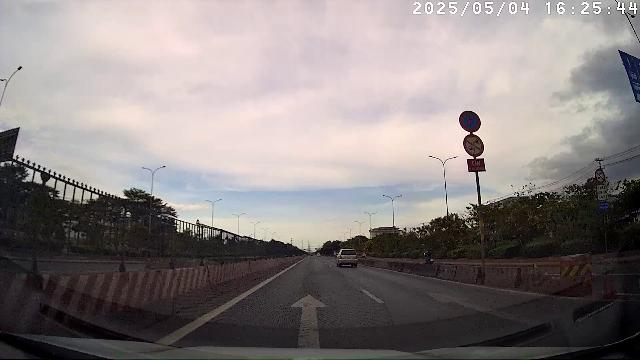130-cam-dung-va-do-xe: (459, 109, 482, 133)
